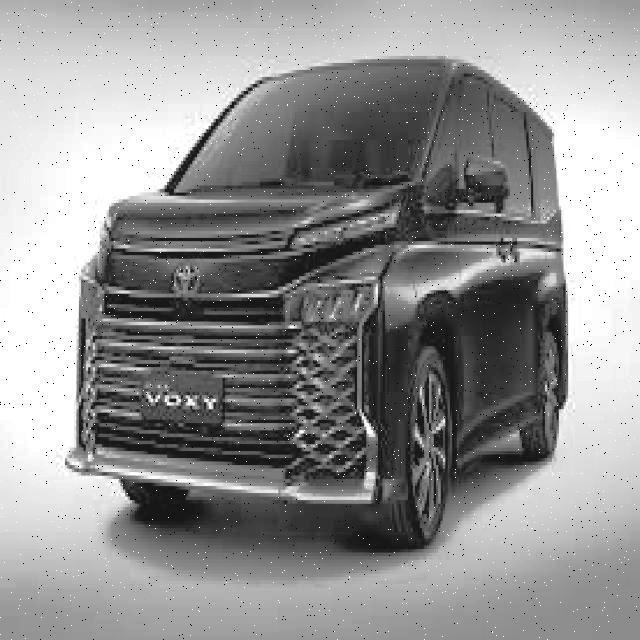Car: (66, 34, 598, 558)
